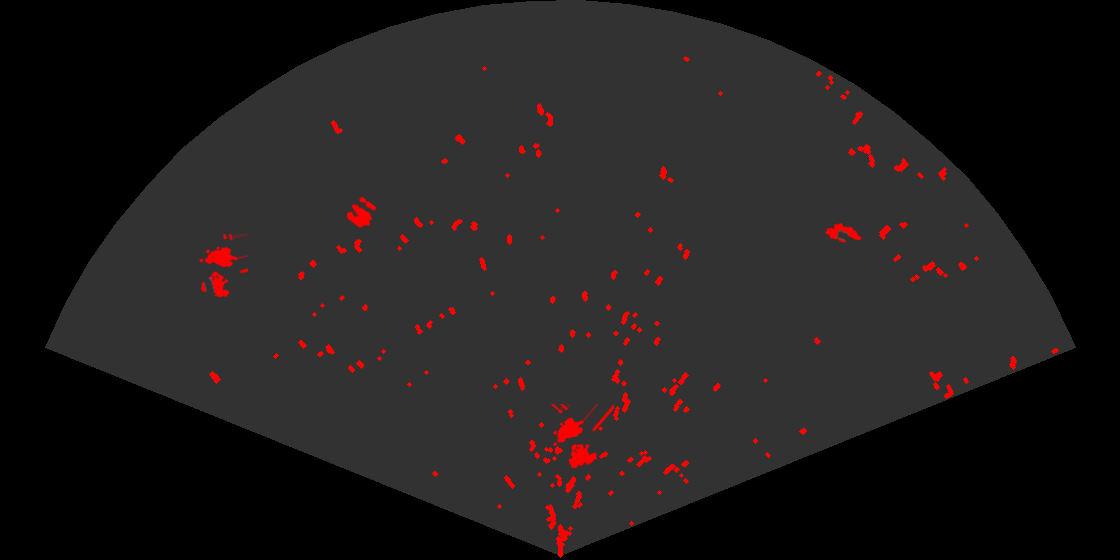AUV: (823, 221, 864, 245)
ball: (345, 195, 378, 229)
cage: (549, 404, 614, 470), (197, 234, 248, 299)
